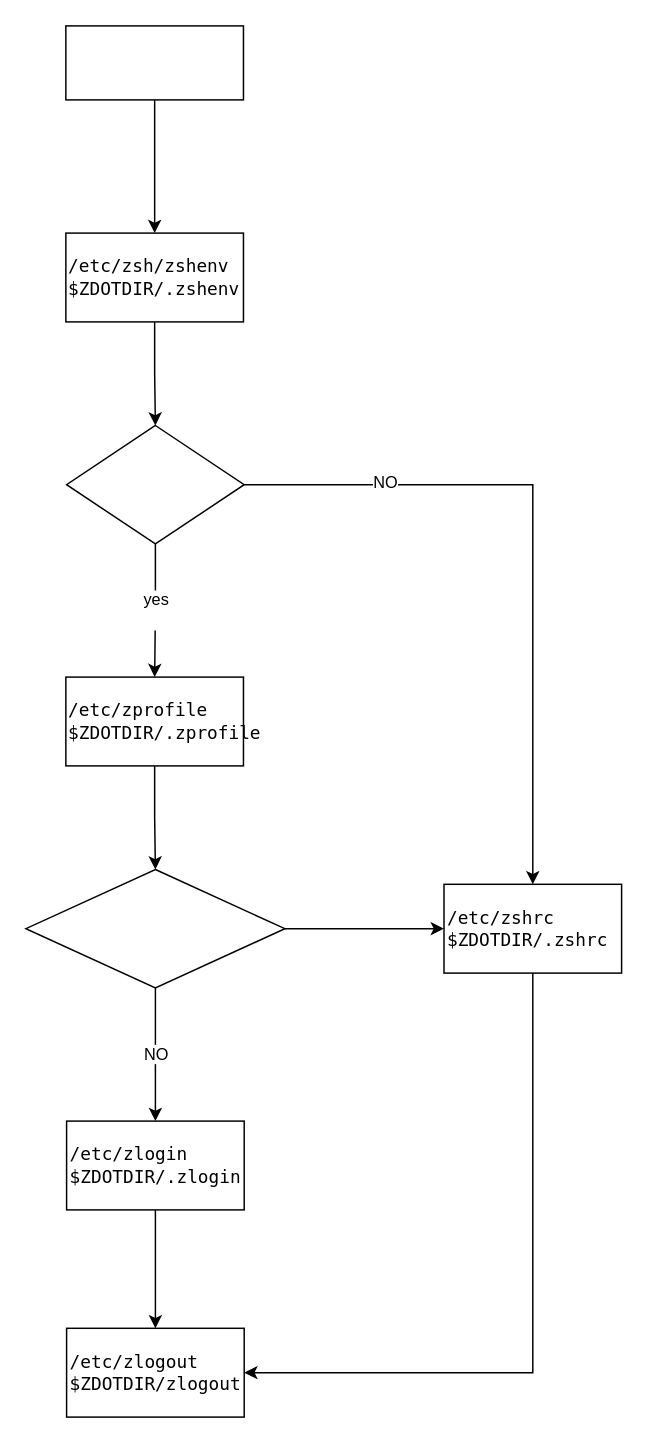
The diagram is 648 pixels wide and 1443 high, and some of its shapes have lost their labels. The centre of each missing label's shape, as x and y in pixels:
"Interactive Shell?" belongs at pixel 154 928.
"login shell?" belongs at pixel 154 484.
"ZSH SHELL Launch" belongs at pixel 153 62.
